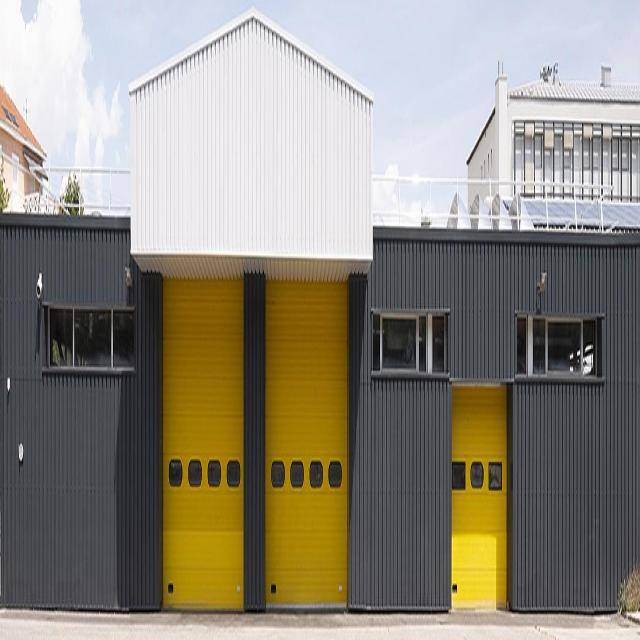door: (265, 272, 347, 603), (164, 274, 244, 603), (452, 379, 507, 601)
window: (48, 301, 134, 362), (372, 305, 447, 366), (532, 311, 602, 369)
